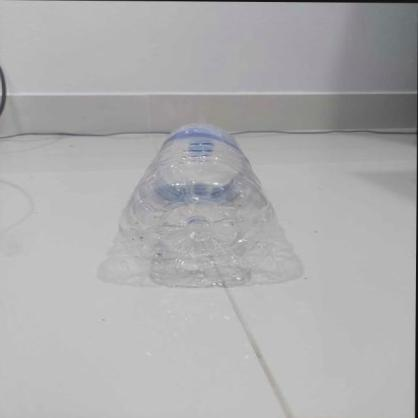bottle: (123, 120, 281, 284)
